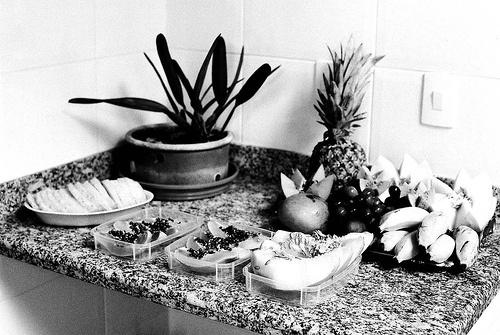pottedplant: (69, 33, 282, 202)
